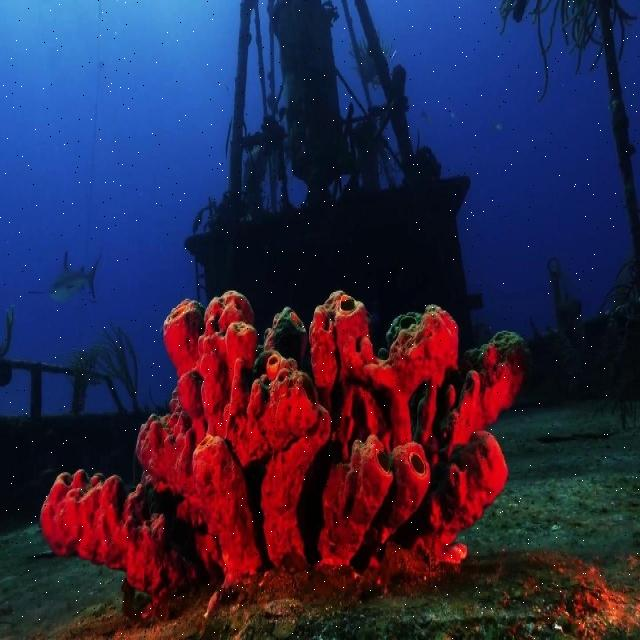fish: (27, 252, 98, 304)
reefs: (37, 291, 526, 625)
wrecks-ruins: (0, 258, 639, 639), (163, 1, 511, 360)
